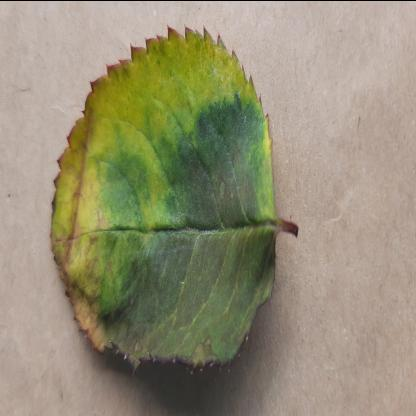powdery-mildew: (50, 18, 272, 386)
